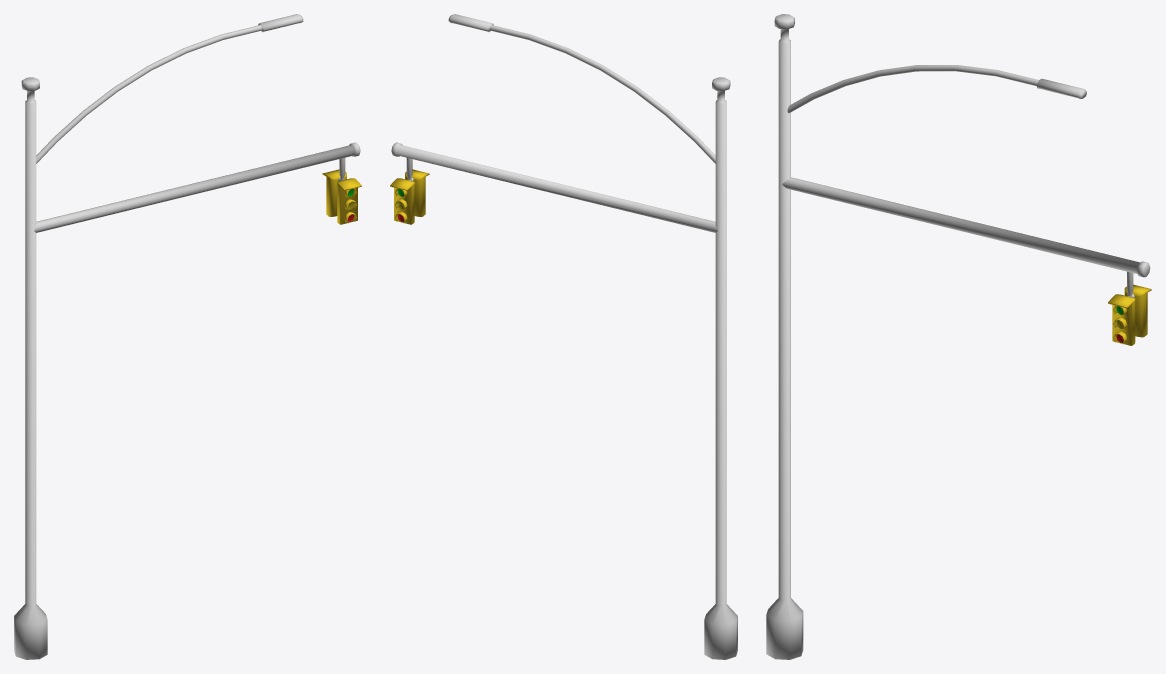
Rendered from LampPost_Lamp.fbx.
3 views of the same model, side by side, from view 1: azimuth 30°, elevation 25°; view 2: azimuth 150°, elevation 25°; view 3: azimuth 330°, elevation 25° (orthographic). The views are drawn at different scales.
Visible parts, largest first — view 1: NurbsPath; view 2: NurbsPath; view 3: NurbsPath.
Boxes of the visible parts, left/top/right/bottom form: NurbsPath: left=14, top=14, right=361, bottom=659; NurbsPath: left=390, top=14, right=737, bottom=659; NurbsPath: left=766, top=14, right=1151, bottom=659.
Bounding box in the file's own units: 7.31 × 0.5109 × 4.56.
